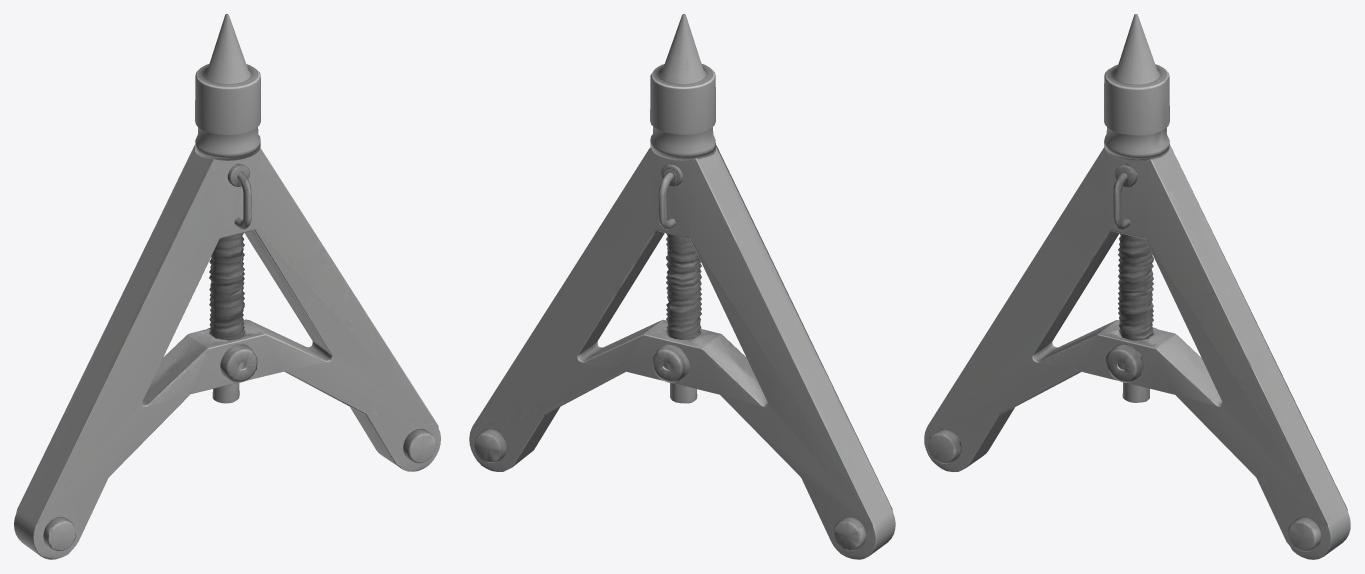
File: drawing-compass.glb
3 views of the same model, side by side, from view 1: azimuth 30°, elevation 25°; view 2: azimuth 150°, elevation 25°; view 3: azimuth 330°, elevation 25° (orthographic).
Bounding box in the file's own units: 0.8228 × 0.9521 × 0.1558.
Materials: 1 (1 with a texture image).
